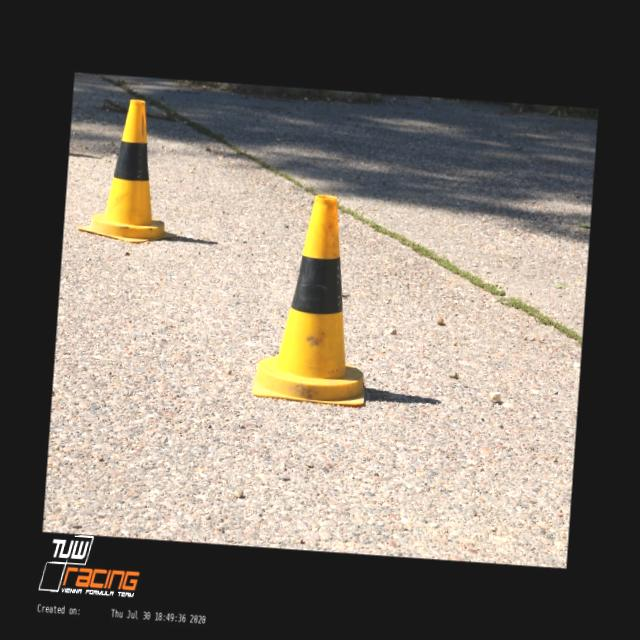yellow_cone: (252, 189, 378, 406), (79, 96, 186, 244)
